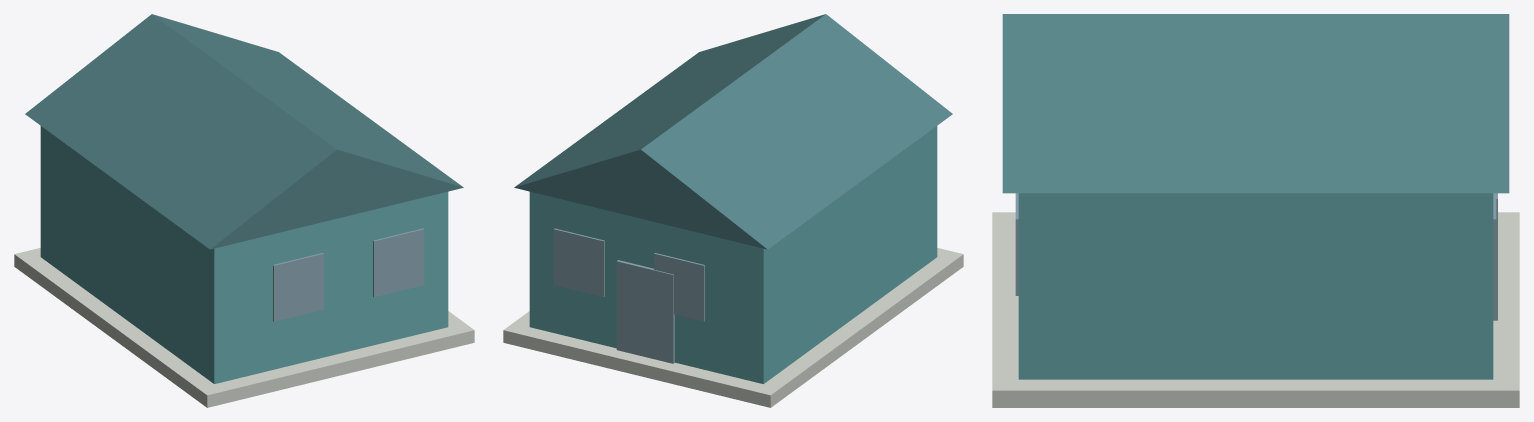
The model's file is town_house_teal.glb.
3 renders of one model, left to right at view 1: azimuth 30°, elevation 25°; view 2: azimuth 150°, elevation 25°; view 3: azimuth 270°, elevation 25°, orthographic. The views are drawn at different scales.
Visible parts, largest first — view 1: town_house_teal__roof, town_house_teal__walls, town_house_teal__plinth, town_house_teal__window.002, town_house_teal__window; view 2: town_house_teal__roof, town_house_teal__walls, town_house_teal__plinth, town_house_teal__front_door, town_house_teal__window.003, town_house_teal__window.001; view 3: town_house_teal__roof, town_house_teal__walls, town_house_teal__plinth.
Boxes of the visible parts, box(x1,y1,x2,y2) form: town_house_teal__roof: box(25, 14, 463, 249); town_house_teal__walls: box(40, 126, 448, 383); town_house_teal__plinth: box(14, 248, 474, 407); town_house_teal__window.002: box(373, 228, 424, 297); town_house_teal__window: box(273, 253, 323, 321); town_house_teal__roof: box(514, 14, 952, 249); town_house_teal__walls: box(529, 126, 937, 383); town_house_teal__plinth: box(503, 248, 963, 407); town_house_teal__front_door: box(616, 260, 674, 363); town_house_teal__window.003: box(553, 228, 604, 297); town_house_teal__window.001: box(654, 253, 704, 321); town_house_teal__roof: box(1002, 14, 1509, 193); town_house_teal__walls: box(1018, 193, 1493, 379); town_house_teal__plinth: box(992, 212, 1519, 407).
Bounding box in the file's own units: 8 × 6.38 × 10.
